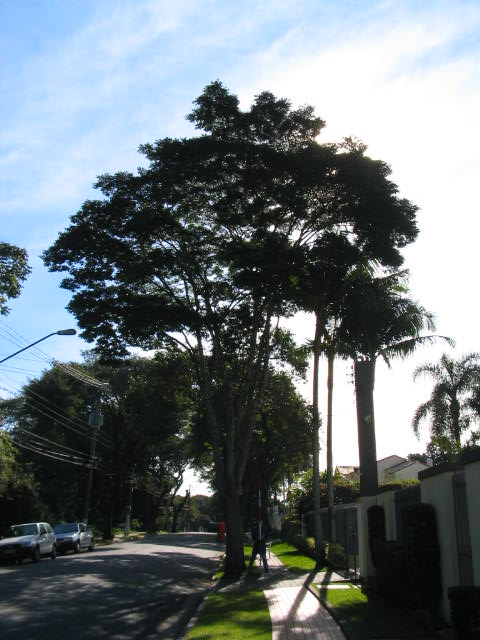crown: (42, 80, 418, 388)
stem: (211, 487, 252, 574)
stick: (250, 477, 270, 571)
tree: (41, 77, 419, 577)
